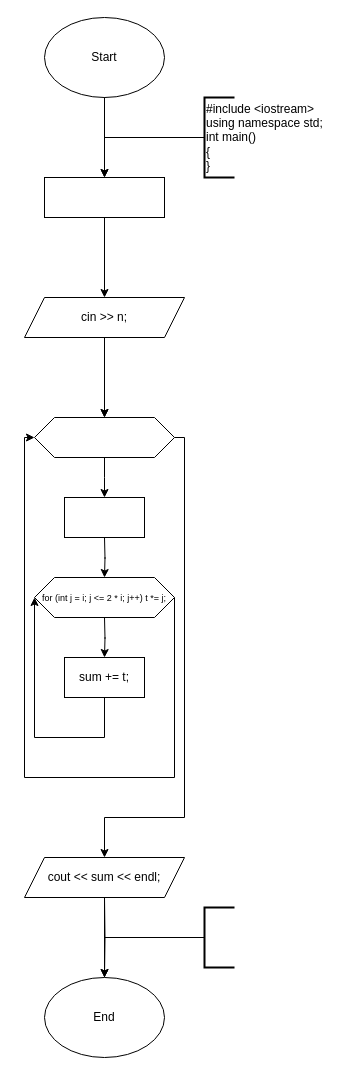
Image size: 341x1075. Some labels were removed from this diagram. The shapes that lost their labels are listed below. From the top down, each one's centre as x and y in pixels, then its label:
At (x=104, y=197): "int n, t, sum = 0;".
At (x=104, y=437): "for (int i = 1; i <= n; i++)".
At (x=104, y=517): "t = 1;".
At (x=219, y=937): "return 0;".
